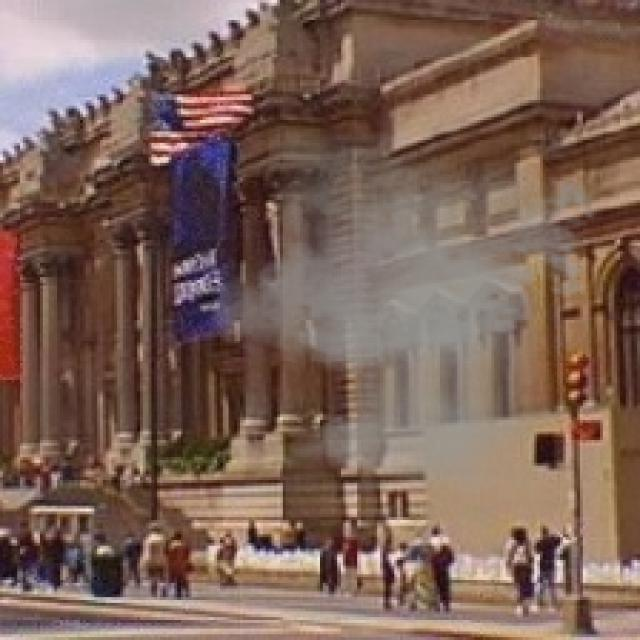smoke: (194, 132, 612, 494)
